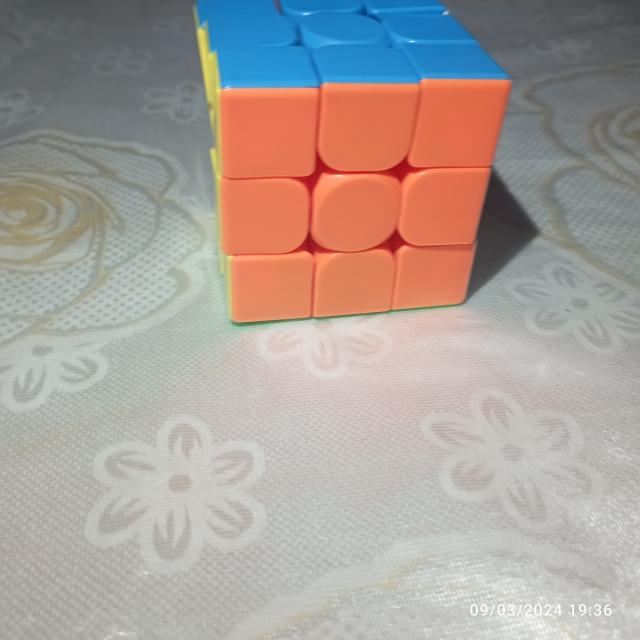Rub: (186, 0, 516, 328)
